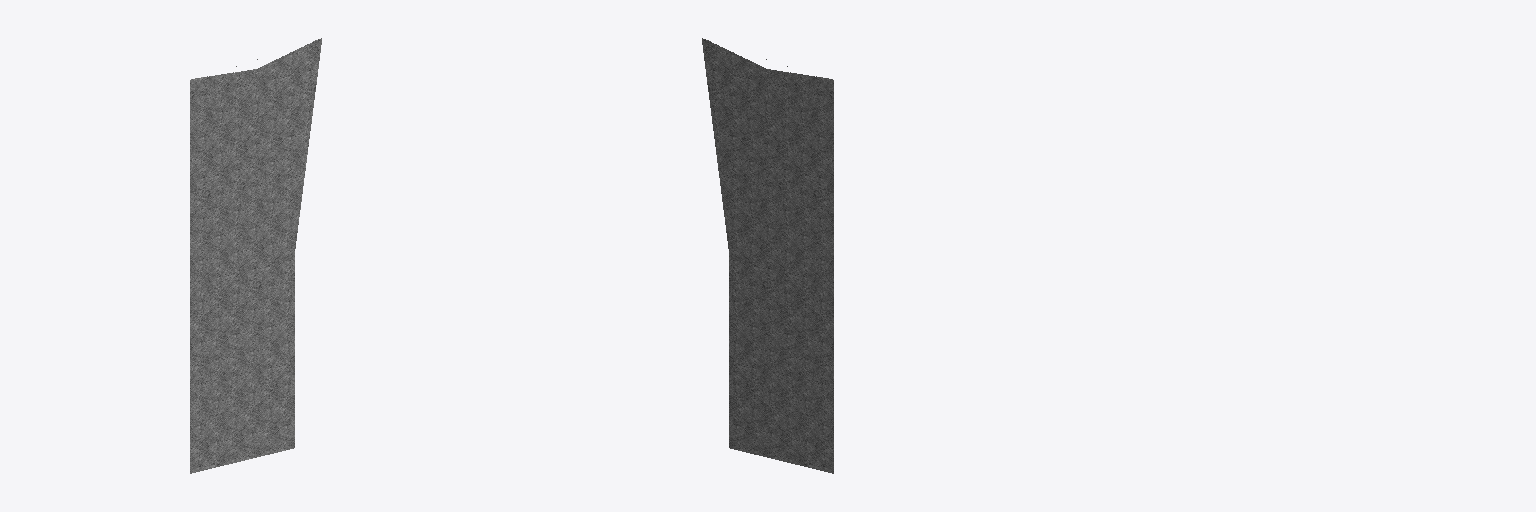
The picture shows the model from 3 angles: view 1: azimuth 30°, elevation 25°; view 2: azimuth 150°, elevation 25°; view 3: azimuth 270°, elevation 25°; orthographic projection.
Parts seen in each view (by area): view 1: Plane; view 2: Plane; view 3: none.
Boxes of the visible parts, x1=… form: Plane: x1=190, y1=38, x2=321, y2=473; Plane: x1=702, y1=38, x2=833, y2=473.
Size of the model in its own units: 12.8 by 37.16 by 0.
Materials: 1 (1 with a texture image).